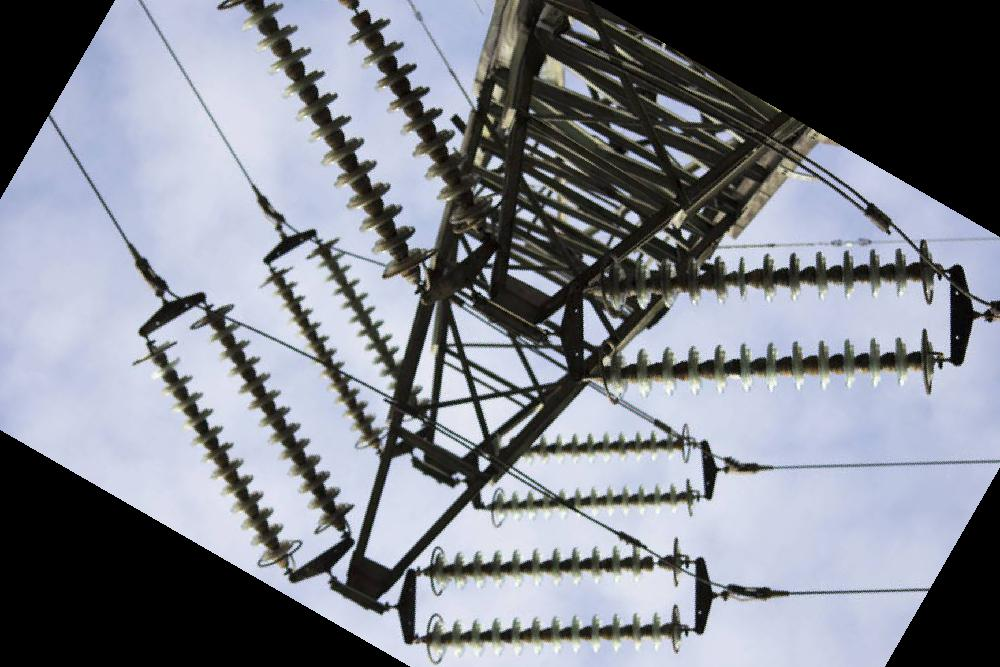insulator: (235, 1, 419, 258), (339, 1, 496, 231), (131, 336, 288, 552), (203, 318, 345, 520), (600, 234, 936, 314), (606, 328, 936, 404), (259, 260, 384, 449), (424, 602, 684, 664), (304, 233, 406, 378), (435, 539, 682, 596), (501, 476, 693, 527), (519, 425, 682, 472)
insulator_stringdrop: (626, 536, 685, 590)
